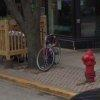Bicycle: (35, 30, 61, 75)
